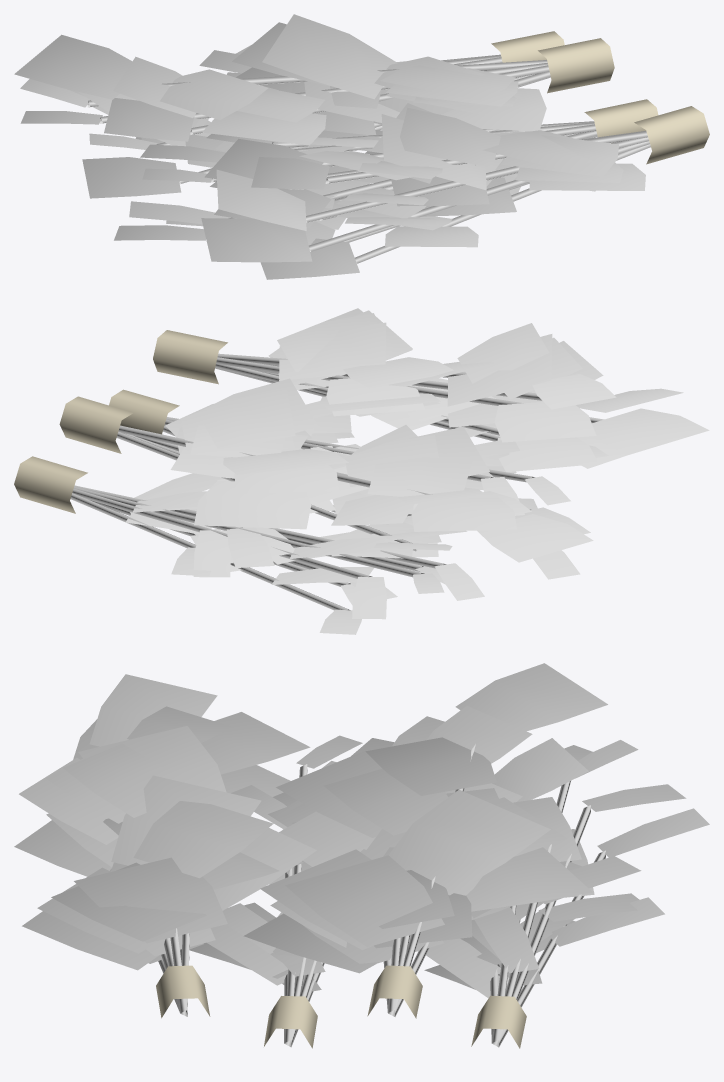
File: fill_basket_herbs_LOD0.glb
3 renders of one model, top to bottom at view 1: azimuth 30°, elevation 25°; view 2: azimuth 150°, elevation 25°; view 3: azimuth 270°, elevation 25°, orthographic. The views are drawn at different scales.
Visible parts, largest first — view 1: HY_fill_basket_herbs_LOD0; view 2: HY_fill_basket_herbs_LOD0; view 3: HY_fill_basket_herbs_LOD0.
Part boxes in pixels (left/top/right/bottom): HY_fill_basket_herbs_LOD0: left=14, top=14, right=709, bottom=279; HY_fill_basket_herbs_LOD0: left=14, top=308, right=709, bottom=634; HY_fill_basket_herbs_LOD0: left=14, top=663, right=709, bottom=1048.
Size of the model in its own units: 0.3046 by 0.0643 by 0.3128.
